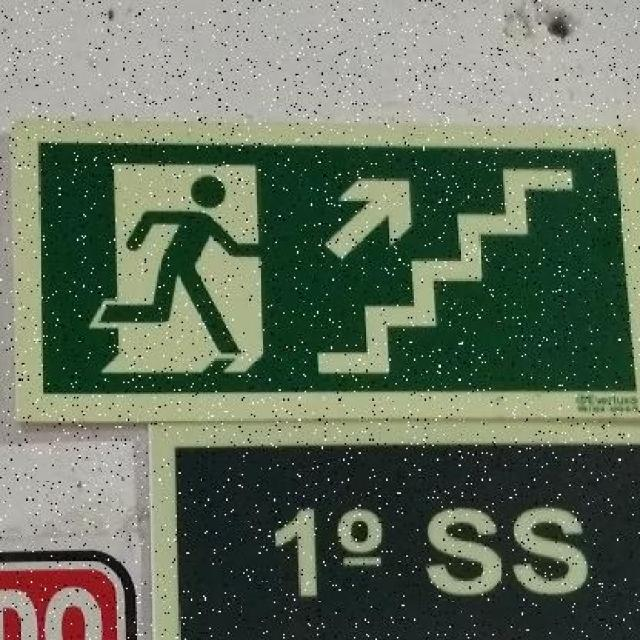emergency_exit: (8, 117, 638, 425), (170, 441, 639, 639), (0, 549, 138, 639)
